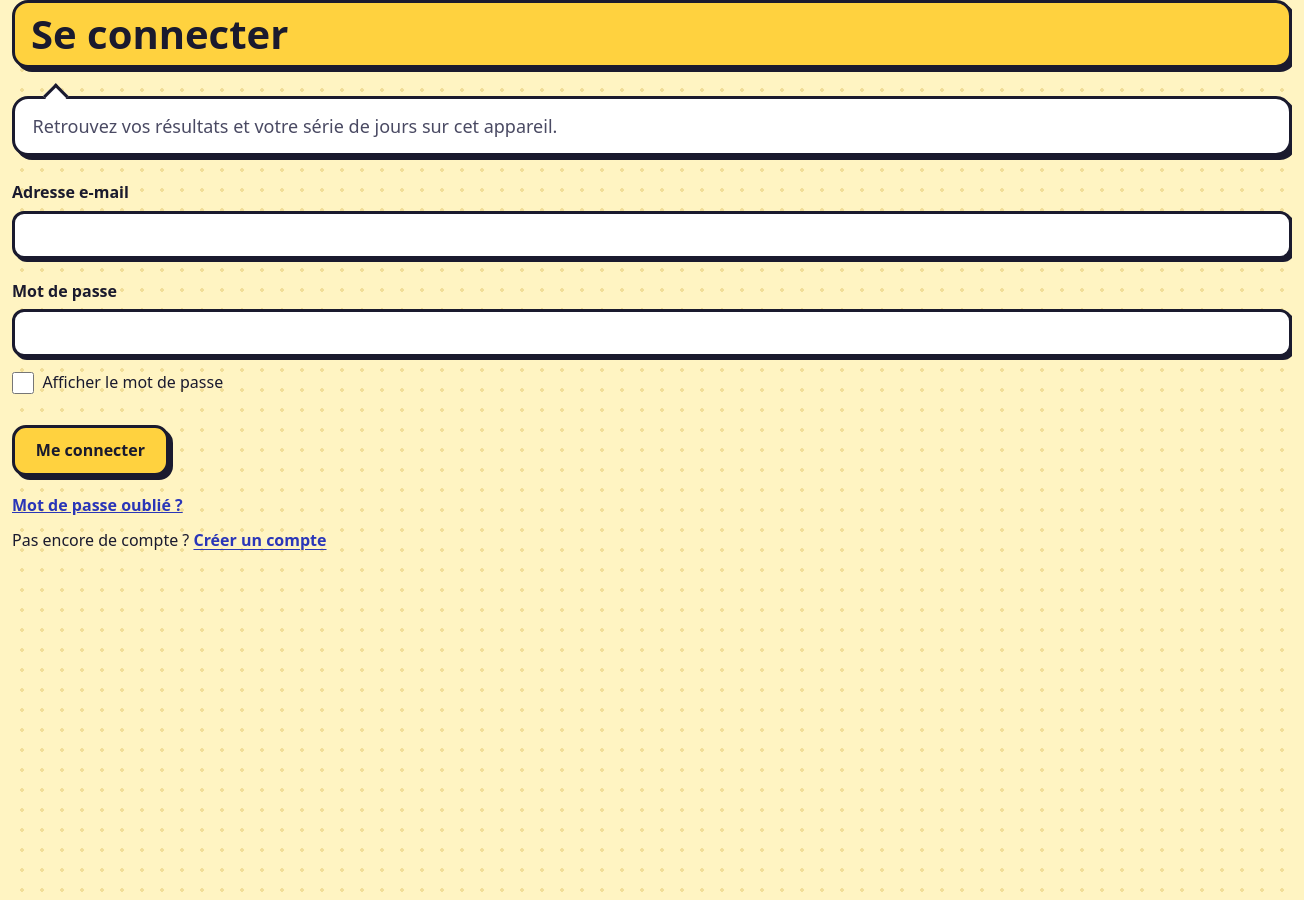
Test case: AuthFormComponent › annonce l’échec avec un message qui ne révèle rien et reste sur la page
In the field with id "email": x=652, y=235 [12,211,1292,259], type "inconnu@exemple.fr"
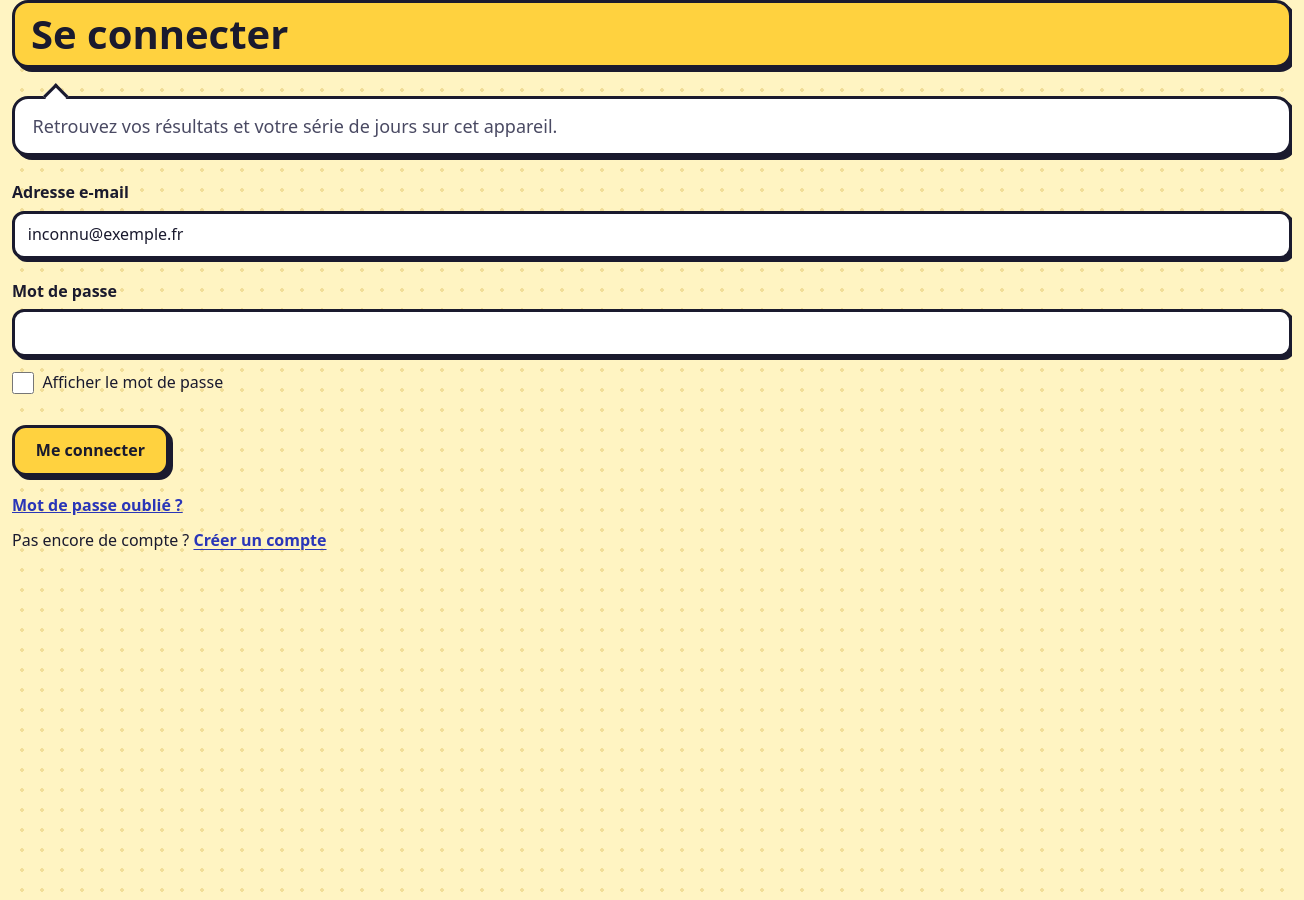
In the password field labelled "Mot de passe": x=652, y=333 [12,309,1292,357], type "mot-de-passe"
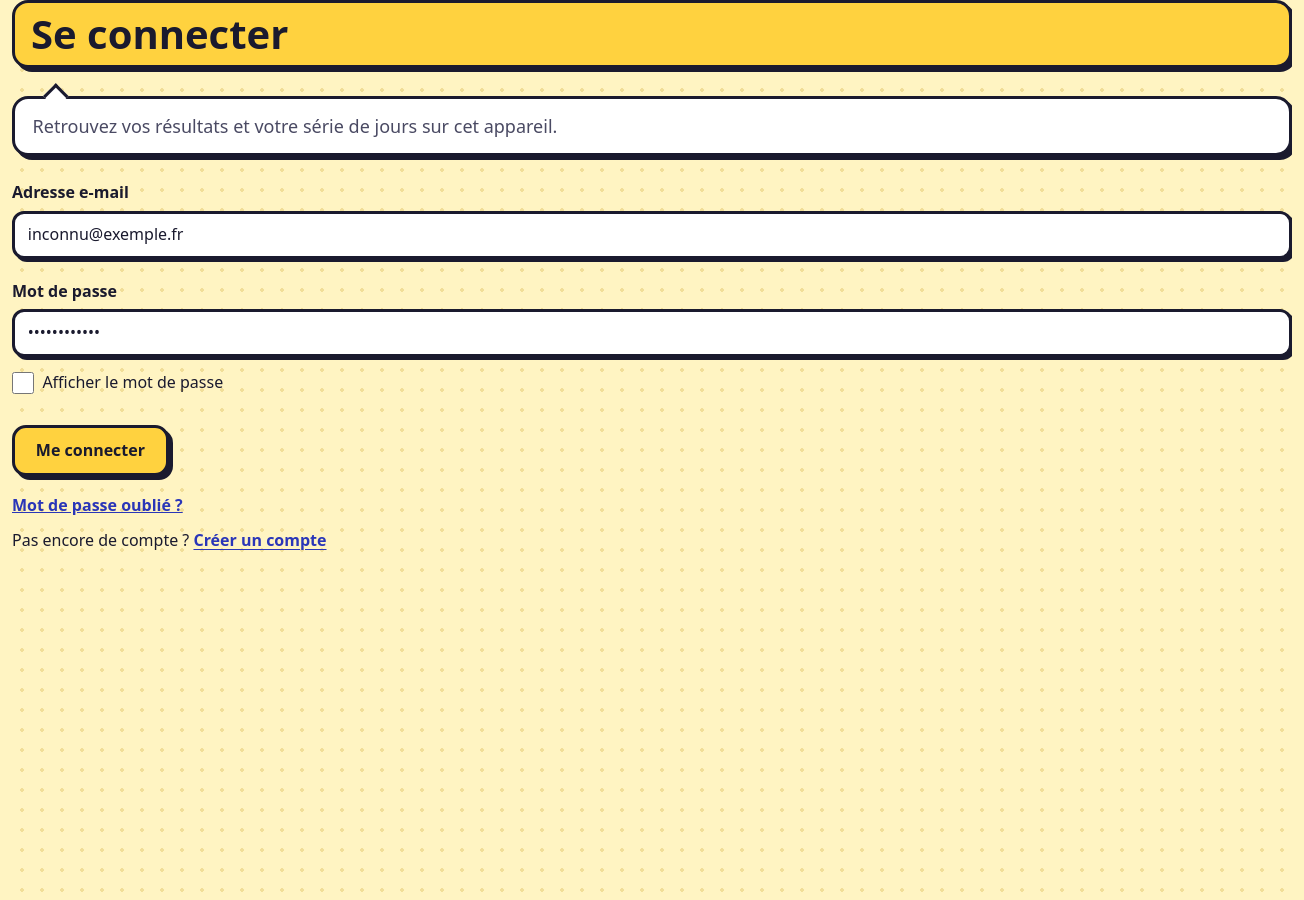
Submit the form, box [12,180,1292,528]
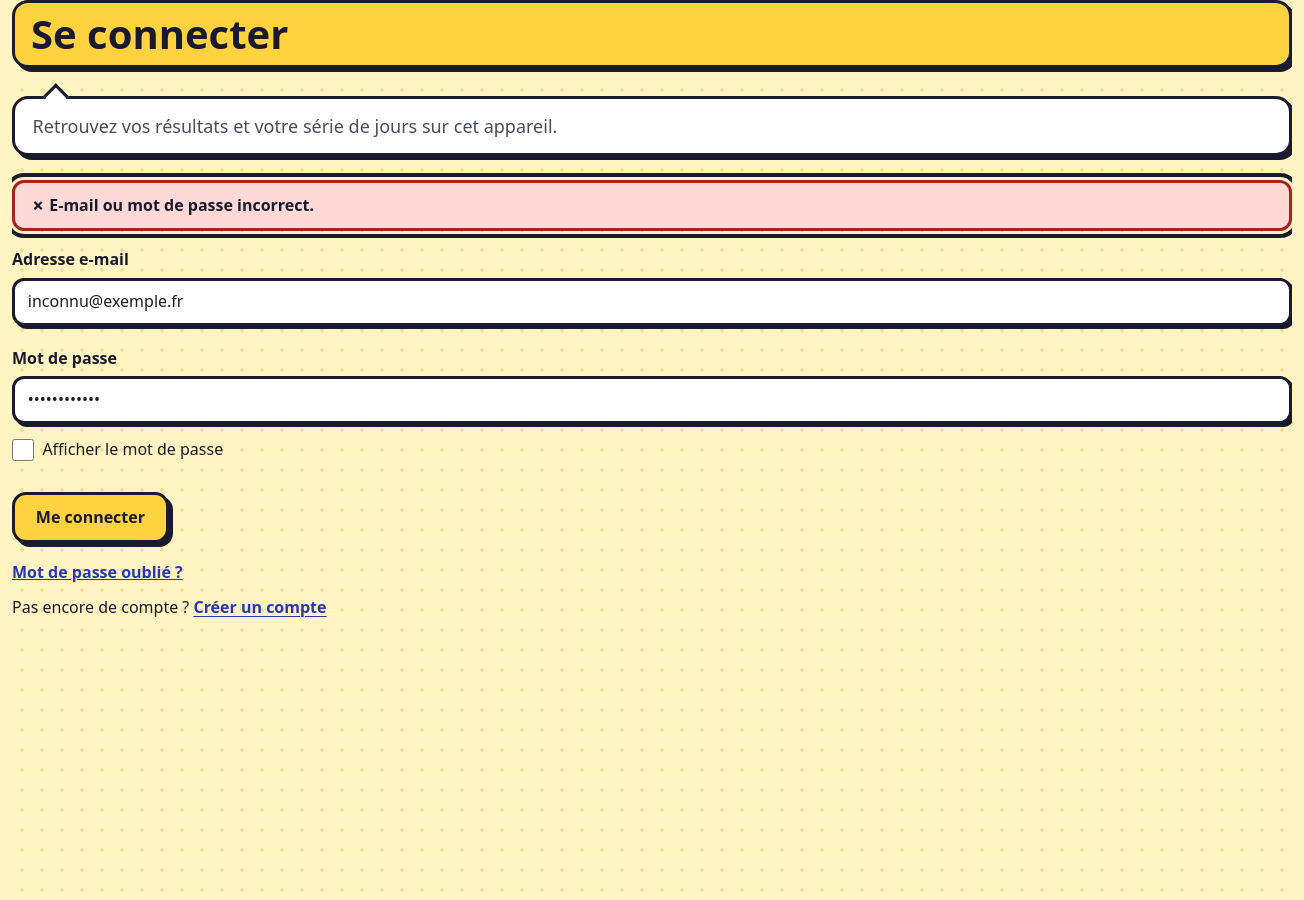
Now the message "✗ E-mail ou mot de passe incorrect." is shown, box [12,180,1292,231]
